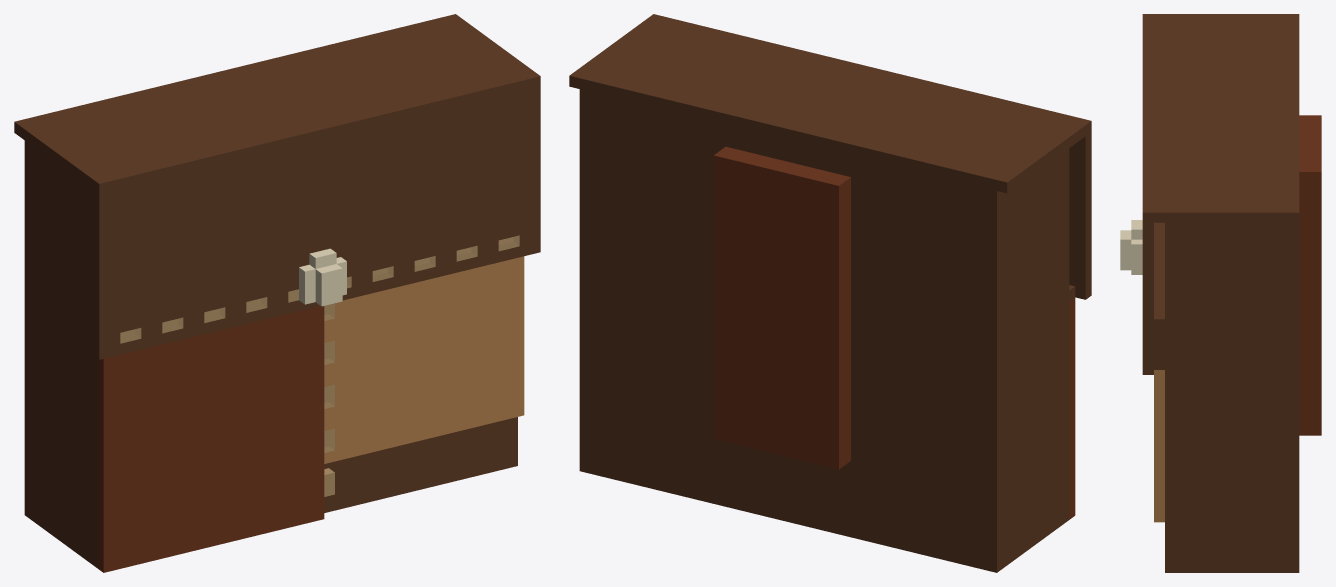
File: leather_pouch.glb
3 views of the same model, side by side, from view 1: azimuth 30°, elevation 25°; view 2: azimuth 150°, elevation 25°; view 3: azimuth 270°, elevation 25° (orthographic). The views are drawn at different scales.
Parts seen in each view (by area): view 1: leather_pouch:compound; view 2: leather_pouch:compound; view 3: leather_pouch:compound.
Boxes of the visible parts, box(x1,y1,x2,y2) form: leather_pouch:compound: box(14, 14, 540, 572); leather_pouch:compound: box(569, 14, 1091, 572); leather_pouch:compound: box(1120, 14, 1321, 572).
Size of the model in its own units: 0.168 by 0.144 by 0.072.
